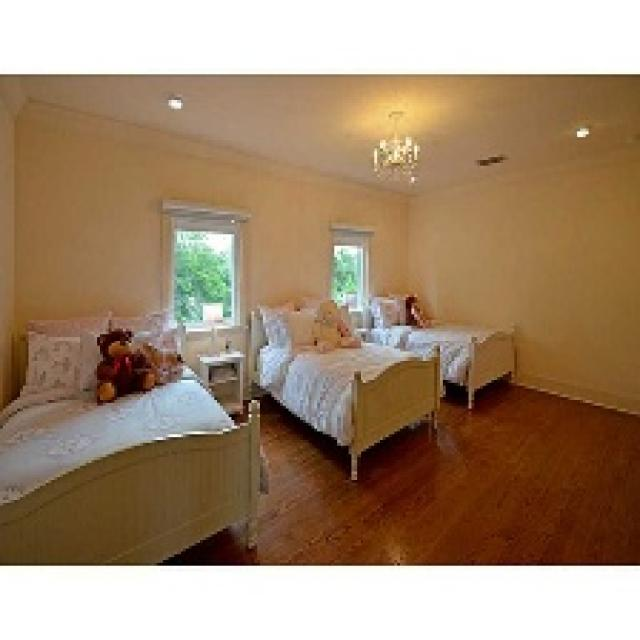Bed: (0, 308, 266, 563), (246, 297, 440, 480), (366, 292, 514, 408)
